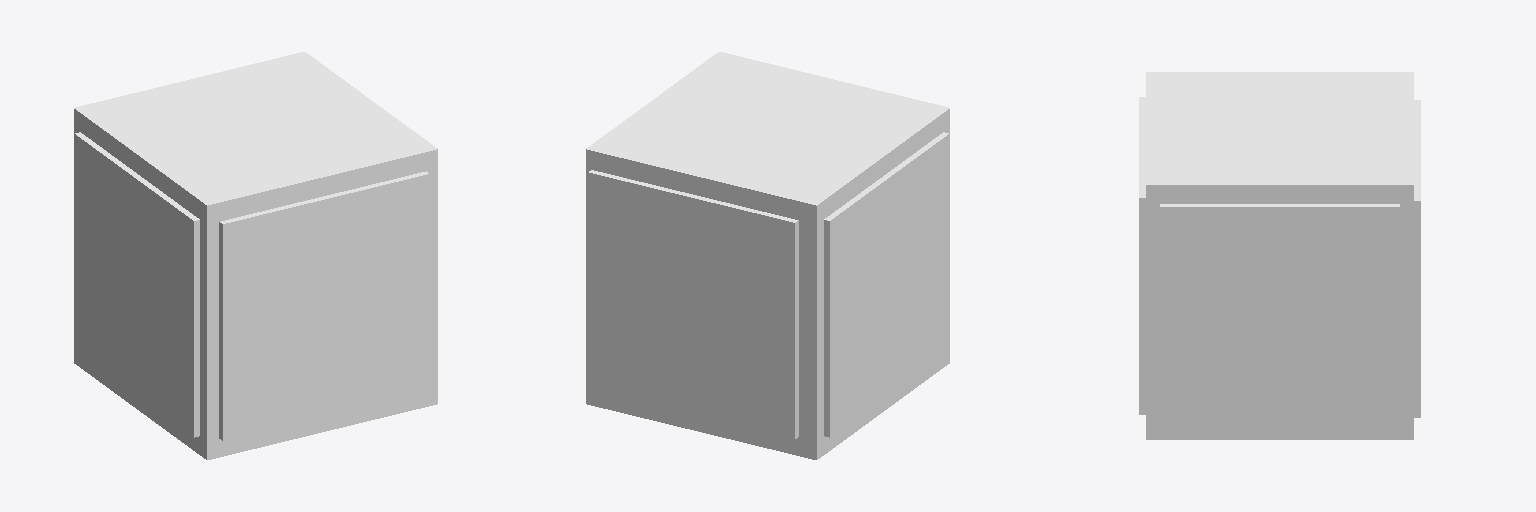
Rendered from brickblock.obj.
3 views of the same model, side by side, from view 1: azimuth 30°, elevation 25°; view 2: azimuth 150°, elevation 25°; view 3: azimuth 270°, elevation 25° (orthographic).
Visible parts, largest first — view 1: object 1; view 2: object 1; view 3: object 1.
Boxes of the visible parts, x1=… form: object 1: x1=74, y1=52, x2=437, y2=459; object 1: x1=586, y1=52, x2=949, y2=459; object 1: x1=1139, y1=72, x2=1420, y2=439.
Bounding box in the file's own units: 4 × 4 × 4.